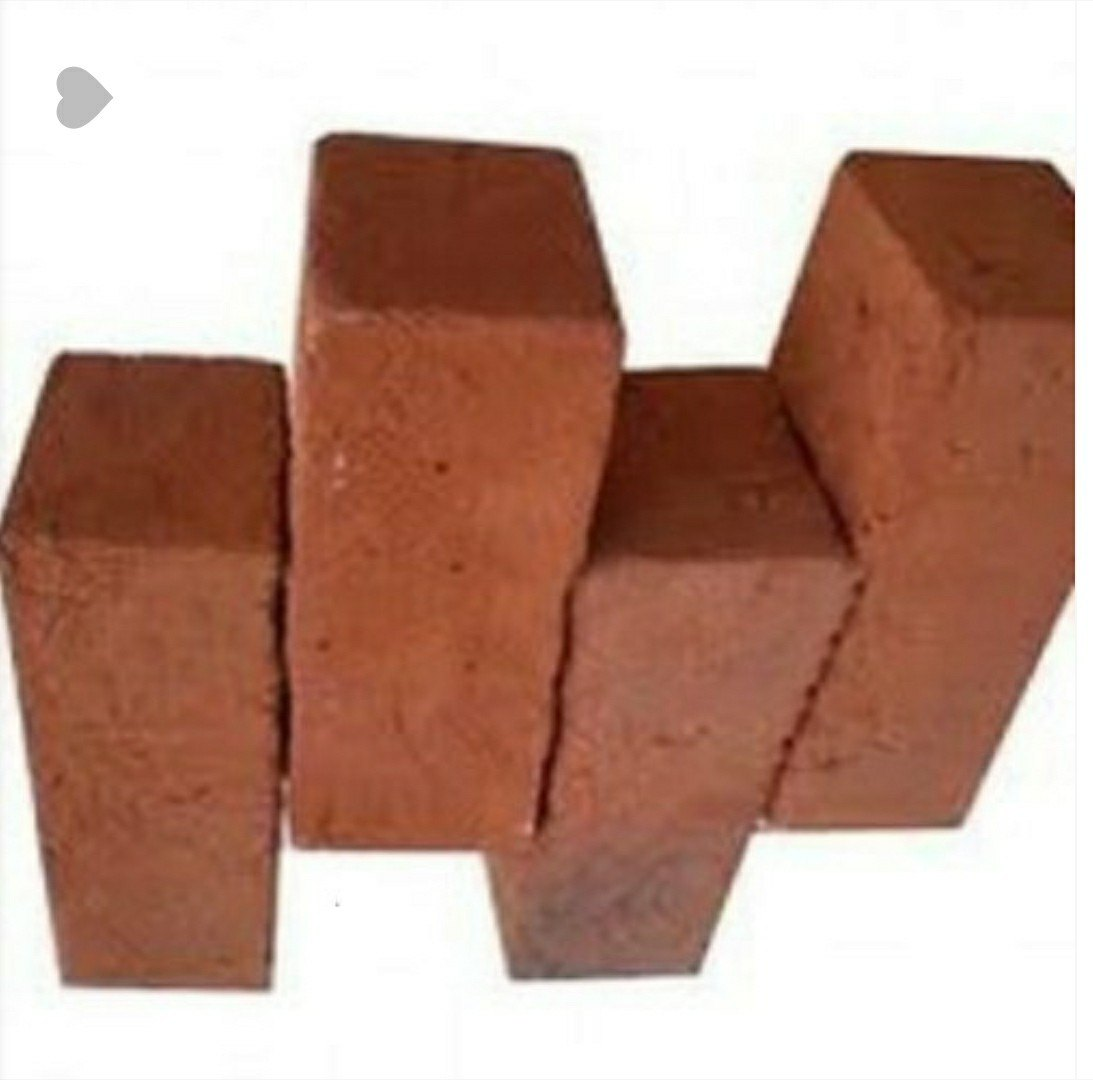brick: (288, 310, 623, 855), (763, 315, 1073, 827), (510, 543, 867, 986), (3, 543, 278, 991)
